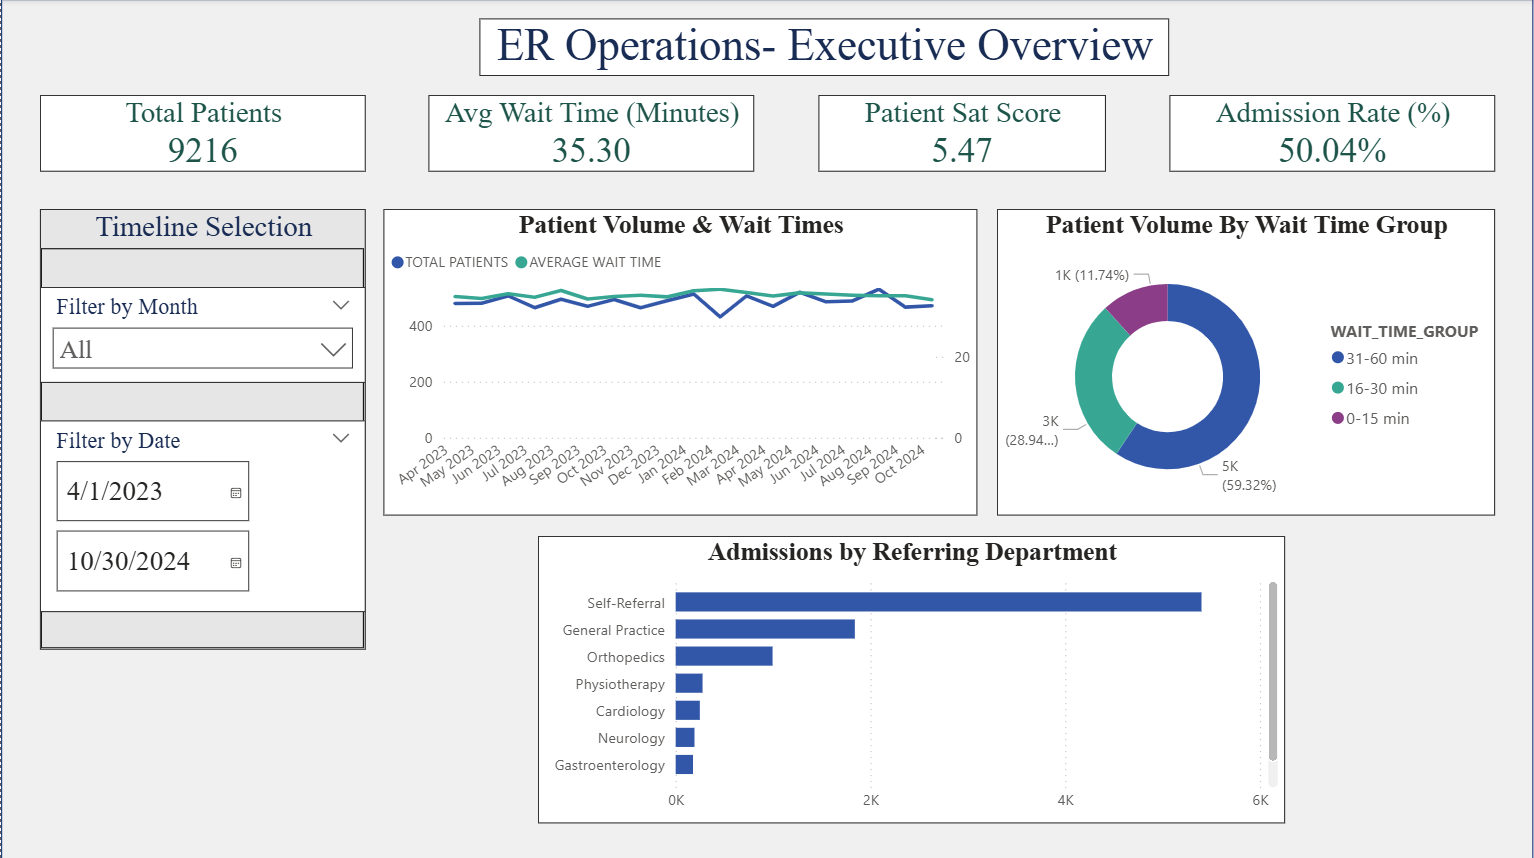

The page's visual inventory and layout, read from the dashboard file:
{"tool":"powerbi","page":{"name":"Executive Overview","canvas":[1280,720],"ordinal":0},"visuals":[{"type":"shape","box":[0,0,1280,720],"z":0},{"type":"shape","title":"Timeline Selection","box":[32,176,272,368],"z":1000},{"type":"card","title":"Total Patients","fields":{"Values":["er ER_Visits.TOTAL PATIENTS"]},"box":[32,80,272,64],"z":2000},{"type":"card","title":"Avg Wait Time (Minutes)","fields":{"Values":["er ER_Visits.AVERAGE WAIT TIME"]},"box":[357.3,80,272,64],"z":3000},{"type":"card","title":"Patient Sat Score","fields":{"Values":["er ER_Visits.AVERAGE SATISFACTION SCORE"]},"box":[682.7,80,240,64],"z":4000},{"type":"card","title":"Admission Rate (%)","fields":{"Values":["er ER_Visits.ADMISSION RATE PCT"]},"box":[976,80,272,64],"z":5000},{"type":"lineChart","title":"Patient Volume & Wait Times","fields":{"Y":["er ER_Visits.TOTAL PATIENTS"],"Category":["Date_Table.MONTH"],"Y2":["er ER_Visits.AVERAGE WAIT TIME"]},"box":[320,176,496,256],"z":6000},{"type":"donutChart","title":"Patient Volume By Wait Time Group","fields":{"Category":["er ER_Visits.WAIT_TIME_GROUP"],"Y":["er ER_Visits.TOTAL PATIENTS"]},"box":[832,176,416,256],"z":7000},{"type":"clusteredBarChart","title":"Admissions by Referring Department","fields":{"Category":["er ER_Visits.DEPARTMENT_REFERRAL"],"Y":["er ER_Visits.TOTAL PATIENTS"]},"box":[448,448,624,240],"z":8000},{"type":"slicer","fields":{"Values":["Date_Table.MONTH"]},"box":[32,240,272,80],"z":9000},{"type":"slicer","fields":{"Values":["Date_Table.DATE"]},"box":[32,352,272,160],"z":10000},{"type":"shape","title":"ER Operations- Executive Overview","box":[400,16,576,48],"z":11000}]}

Visuals, with their boxes in screenshot pixels (x1, y1, x2, y2), scaled from the page's 1280x720 canvas onto the 1534x858 screenshot:
shape: BBox(0, 0, 1533, 857)
"Timeline Selection" shape: BBox(38, 210, 364, 648)
"Total Patients" card: BBox(38, 95, 364, 172)
"Avg Wait Time (Minutes)" card: BBox(428, 95, 754, 172)
"Patient Sat Score" card: BBox(818, 95, 1106, 172)
"Admission Rate (%)" card: BBox(1170, 95, 1496, 172)
"Patient Volume & Wait Times" lineChart: BBox(384, 210, 978, 515)
"Patient Volume By Wait Time Group" donutChart: BBox(997, 210, 1496, 515)
"Admissions by Referring Department" clusteredBarChart: BBox(537, 534, 1285, 820)
slicer - Date_Table.MONTH: BBox(38, 286, 364, 381)
slicer - Date_Table.DATE: BBox(38, 419, 364, 610)
"ER Operations- Executive Overview" shape: BBox(479, 19, 1170, 76)
